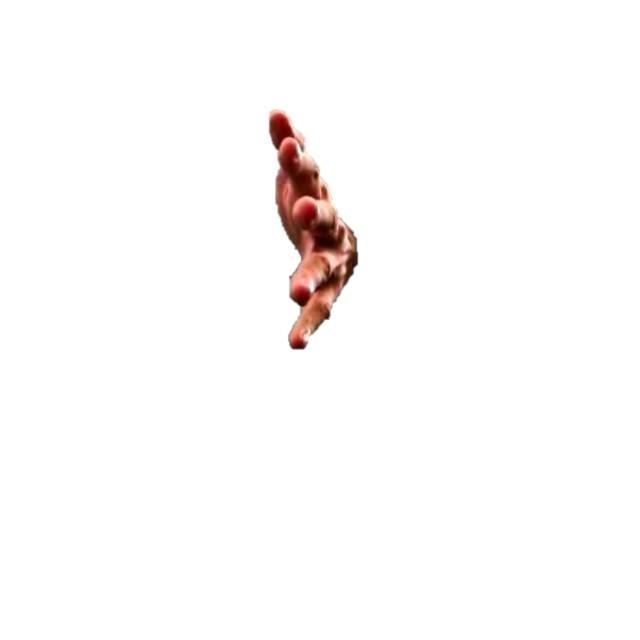pa-: (268, 111, 359, 352)
